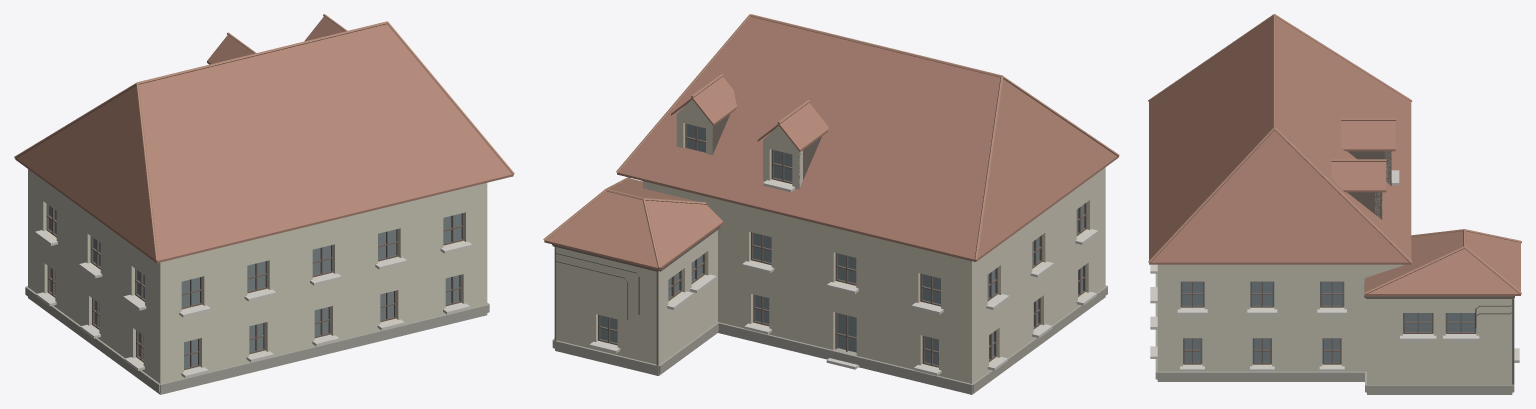
The model's file is jingan-yanan-955-no2-lod.glb.
3 views of the same model, side by side, from view 1: azimuth 30°, elevation 25°; view 2: azimuth 150°, elevation 25°; view 3: azimuth 270°, elevation 25° (orthographic). The views are drawn at different scales.
Visible parts, largest first — view 1: 延安中路955弄2号住宅（北侧老虎窗与凸廊）; view 2: 延安中路955弄2号住宅（北侧老虎窗与凸廊）; view 3: 延安中路955弄2号住宅（北侧老虎窗与凸廊）.
Boxes of the visible parts, x1,y1,x2,y2 form: 延安中路955弄2号住宅（北侧老虎窗与凸廊）: [14, 14, 514, 394]; 延安中路955弄2号住宅（北侧老虎窗与凸廊）: [543, 14, 1119, 394]; 延安中路955弄2号住宅（北侧老虎窗与凸廊）: [1148, 14, 1521, 394].
Size of the model in its own units: 21.41 by 14.1 by 20.09.
